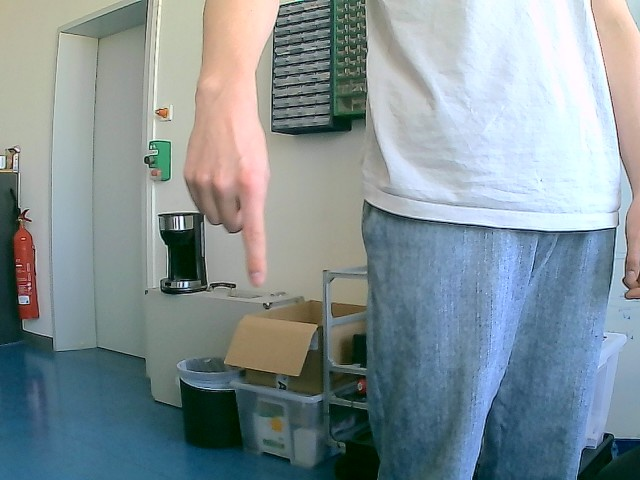down: (182, 86, 272, 287)
